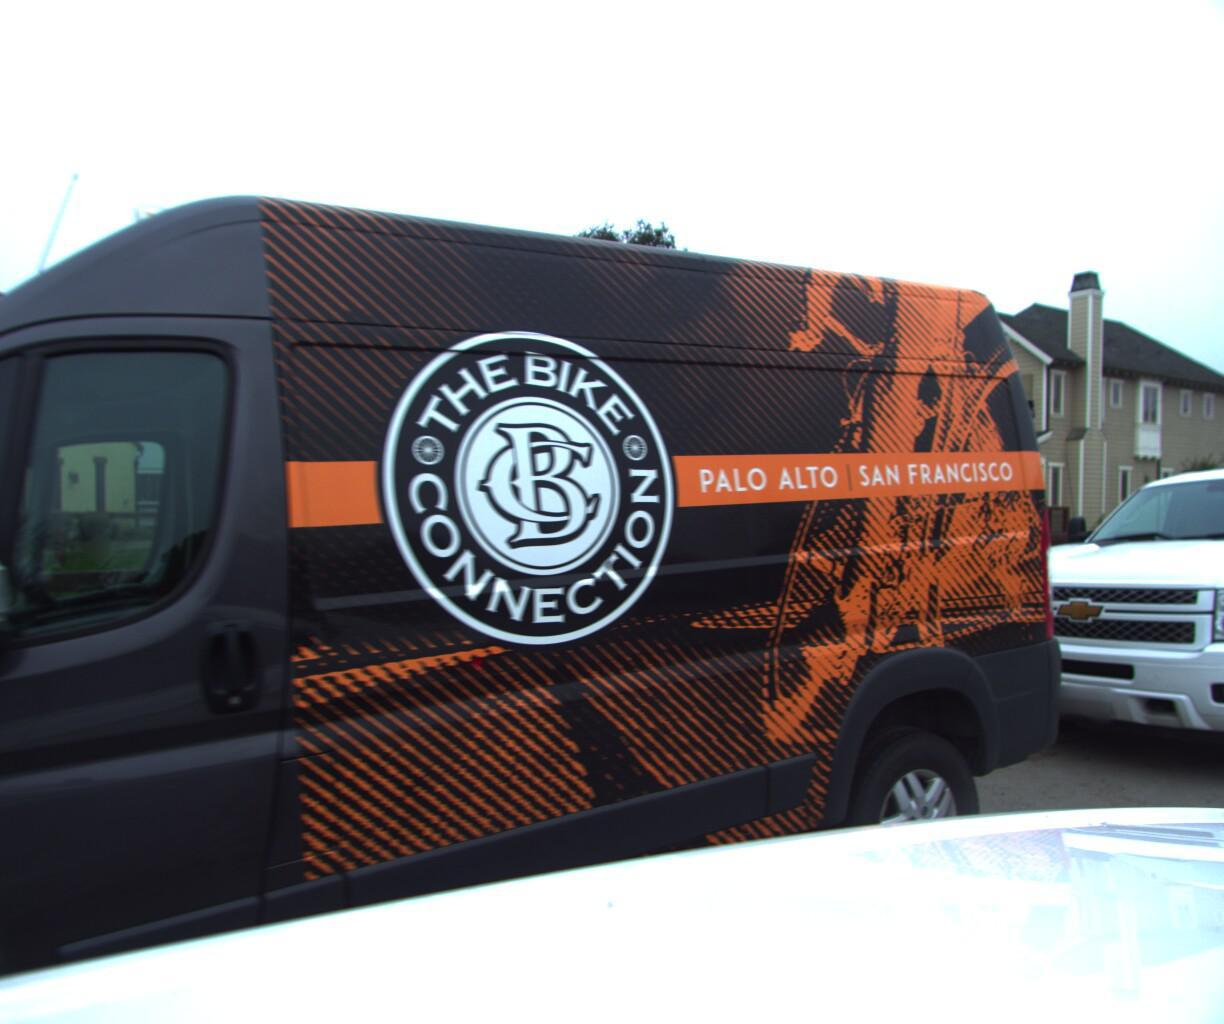car: (0, 0, 1154, 1024), (936, 409, 1224, 822)
